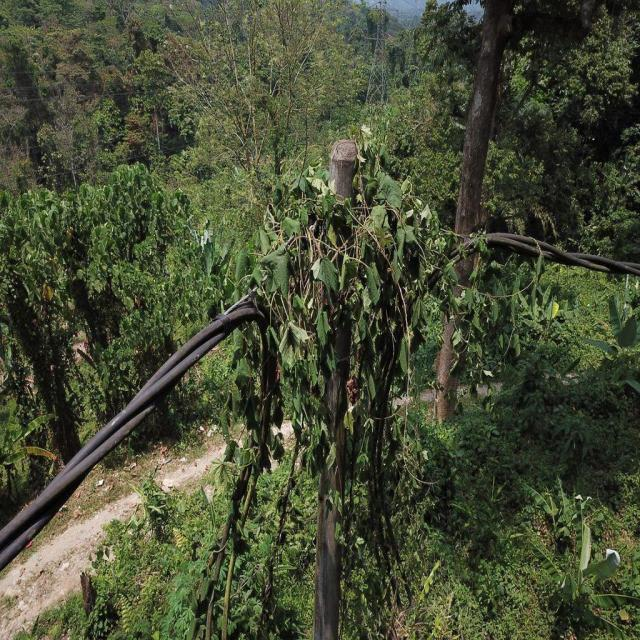critical vegetation: (237, 132, 489, 624)
